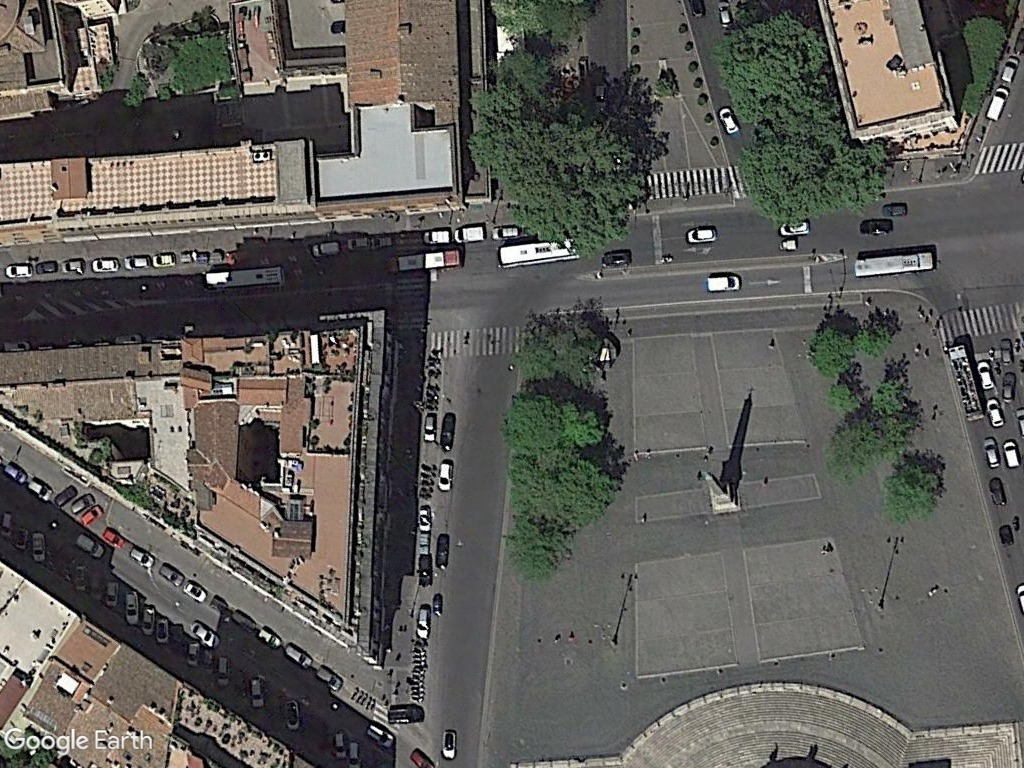bus: (850, 249, 940, 280), (383, 246, 468, 278), (199, 263, 289, 292), (493, 241, 587, 268)
car: (361, 721, 401, 751), (282, 638, 315, 673), (312, 660, 344, 695), (856, 213, 900, 238), (120, 585, 144, 629), (230, 602, 260, 637), (187, 617, 222, 647), (997, 50, 1024, 88), (256, 621, 287, 654), (74, 530, 108, 560), (713, 105, 742, 138), (437, 408, 457, 455), (974, 355, 998, 394), (1000, 434, 1024, 473), (155, 560, 187, 589), (682, 223, 722, 246), (1, 455, 29, 487), (437, 726, 461, 763), (980, 435, 1002, 475), (67, 489, 97, 518), (773, 217, 815, 237), (179, 578, 210, 605), (78, 499, 105, 530), (487, 221, 525, 243), (281, 695, 303, 733), (984, 395, 1009, 428), (432, 531, 452, 572), (306, 238, 345, 259), (599, 249, 639, 269), (248, 674, 268, 714), (139, 598, 158, 640), (1, 260, 37, 282), (985, 474, 1009, 507), (25, 474, 53, 502), (330, 726, 350, 765), (128, 544, 158, 570), (28, 528, 48, 567), (214, 651, 233, 692), (414, 553, 435, 590), (436, 458, 456, 496), (88, 254, 124, 275), (878, 198, 912, 220), (995, 336, 1017, 370), (120, 250, 152, 273), (420, 408, 439, 446), (413, 605, 432, 643), (99, 525, 129, 549), (29, 256, 59, 279), (55, 480, 78, 510), (147, 249, 178, 271), (154, 613, 172, 650), (104, 571, 120, 612), (0, 507, 17, 545), (343, 234, 376, 253), (715, 0, 735, 31), (58, 254, 85, 275), (346, 733, 362, 768), (1000, 372, 1018, 403), (185, 635, 200, 668)
other: (380, 702, 423, 726)
van: (982, 83, 1014, 125), (701, 273, 744, 294), (420, 224, 455, 248), (451, 223, 487, 246)
